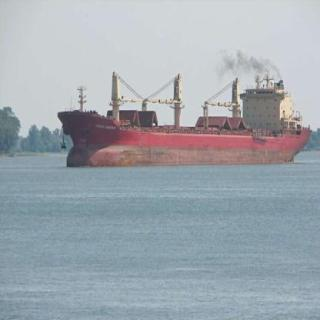Bulk Carrier: (55, 65, 313, 168)
